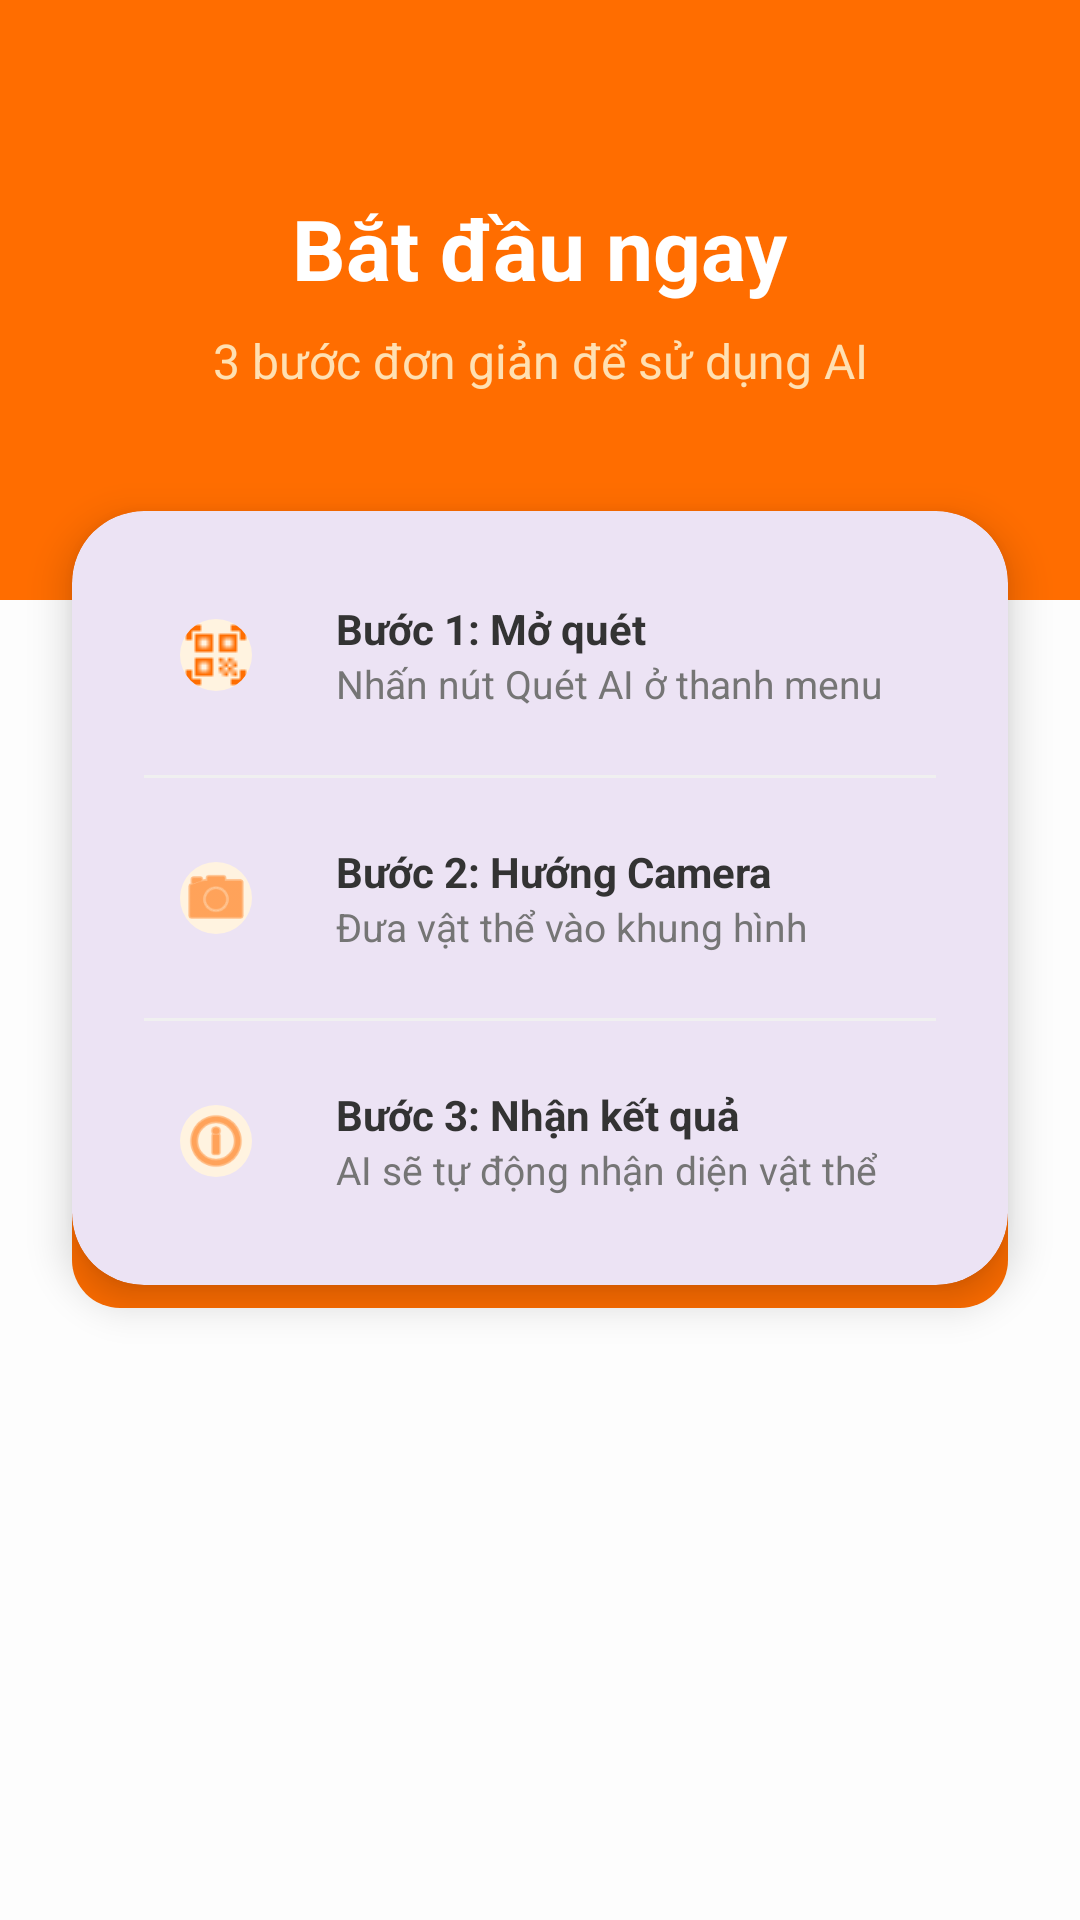

Point at icon controls on the screen. Image size 1080 × 1920, points as [x,y].
info details: [216,1141]
qr code: [216,655]
